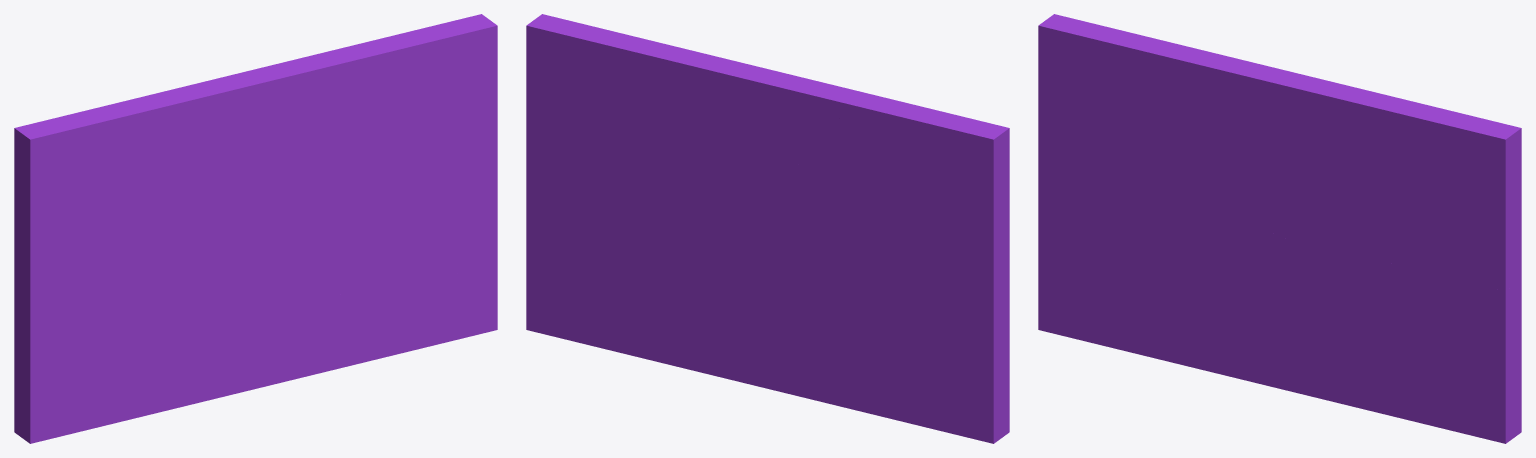
The model's file is Barrier_75_chunks.fbx.
3 renders of one model, left to right at view 1: azimuth 30°, elevation 25°; view 2: azimuth 150°, elevation 25°; view 3: azimuth 330°, elevation 25°, orthographic.
Parts seen in each view (by area): view 1: Barrier_75_1, Barrier_75_9, Barrier_75_3, Barrier_75_7, Barrier_75_4, Barrier_75_5, Barrier_75_6, Barrier_75_8, Barrier_75_2; view 2: Barrier_75_1, Barrier_75_8, Barrier_75_5, Barrier_75_4, Barrier_75_9, Barrier_75_6, Barrier_75_3, Barrier_75_7, Barrier_75_0; view 3: Barrier_75_1, Barrier_75_9, Barrier_75_3, Barrier_75_4, Barrier_75_7, Barrier_75_6, Barrier_75_5, Barrier_75_8, Barrier_75_2.
Part boxes in pixels (x1,y1,x2,y2): Barrier_75_1: (14, 92, 266, 443); Barrier_75_9: (295, 14, 497, 156); Barrier_75_3: (267, 272, 497, 385); Barrier_75_7: (186, 111, 348, 233); Barrier_75_4: (336, 177, 497, 277); Barrier_75_5: (181, 232, 311, 406); Barrier_75_6: (334, 108, 497, 217); Barrier_75_8: (160, 54, 314, 120); Barrier_75_2: (275, 217, 361, 315); Barrier_75_1: (790, 91, 1009, 443); Barrier_75_8: (670, 63, 858, 171); Barrier_75_5: (681, 222, 847, 408); Barrier_75_4: (526, 177, 707, 284); Barrier_75_9: (526, 14, 743, 138); Barrier_75_6: (526, 92, 708, 221); Barrier_75_3: (526, 279, 743, 382); Barrier_75_7: (697, 163, 809, 228); Barrier_75_0: (737, 192, 790, 291); Barrier_75_1: (1038, 14, 1274, 366); Barrier_75_9: (1303, 87, 1521, 222); Barrier_75_3: (1275, 325, 1521, 443); Barrier_75_4: (1344, 252, 1521, 386); Barrier_75_7: (1194, 73, 1356, 251); Barrier_75_6: (1342, 195, 1521, 291); Barrier_75_5: (1189, 235, 1319, 387); Barrier_75_8: (1189, 49, 1354, 141); Barrier_75_2: (1283, 238, 1369, 339).
Size of the model in its own units: 462 by 288 by 27.2.
